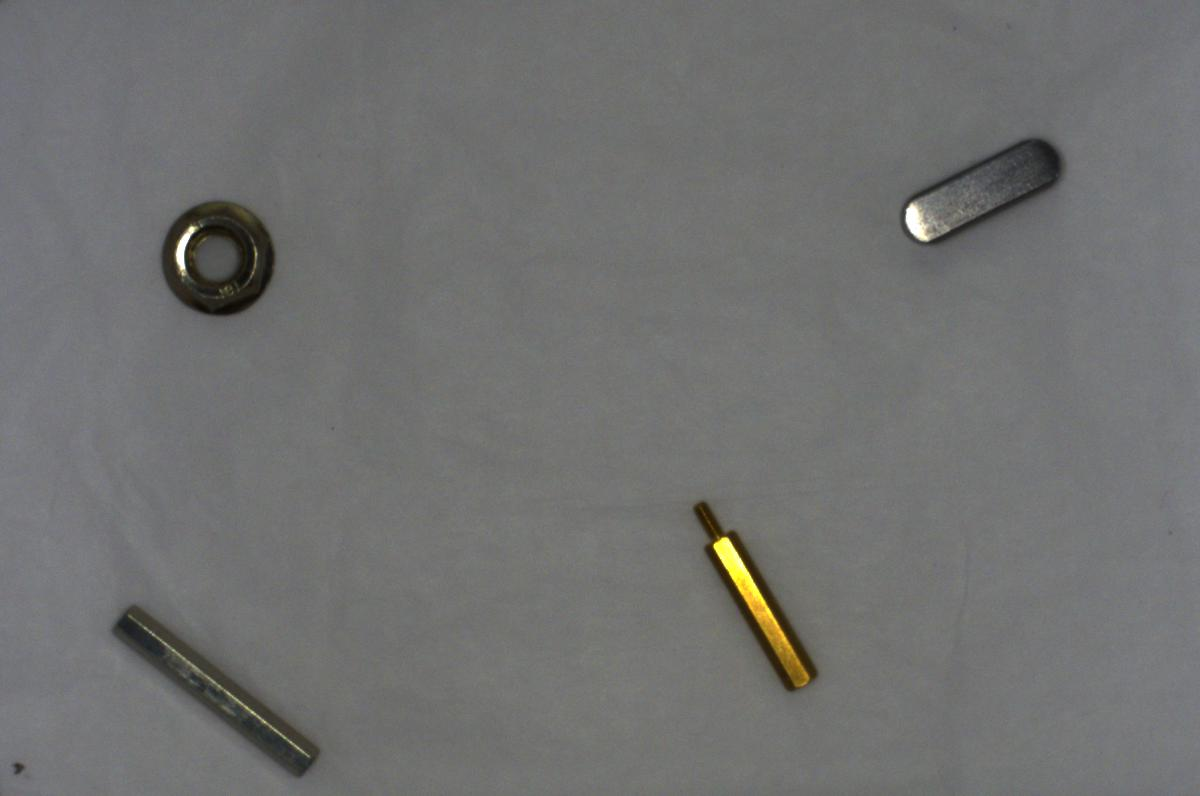Double hexagonal column: (106, 607, 330, 785)
Flange nut: (152, 190, 281, 319)
Hexagon pillar: (684, 492, 825, 701)
Keybar: (888, 129, 1068, 250)
